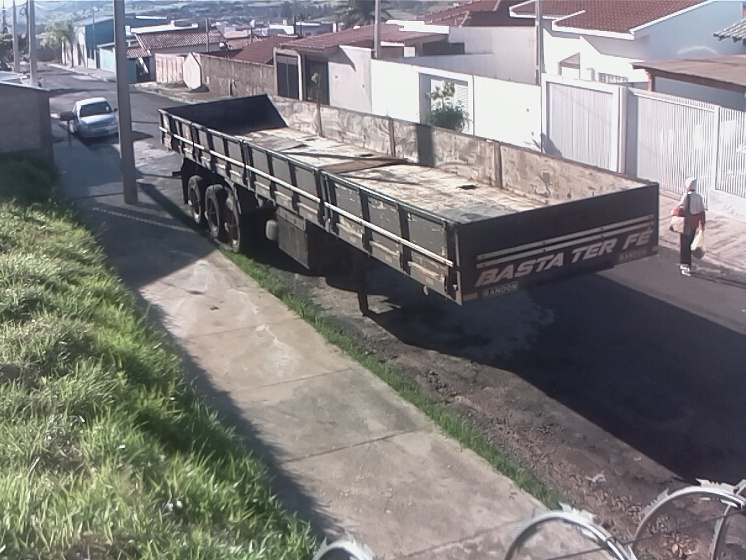person: (670, 177, 707, 280)
